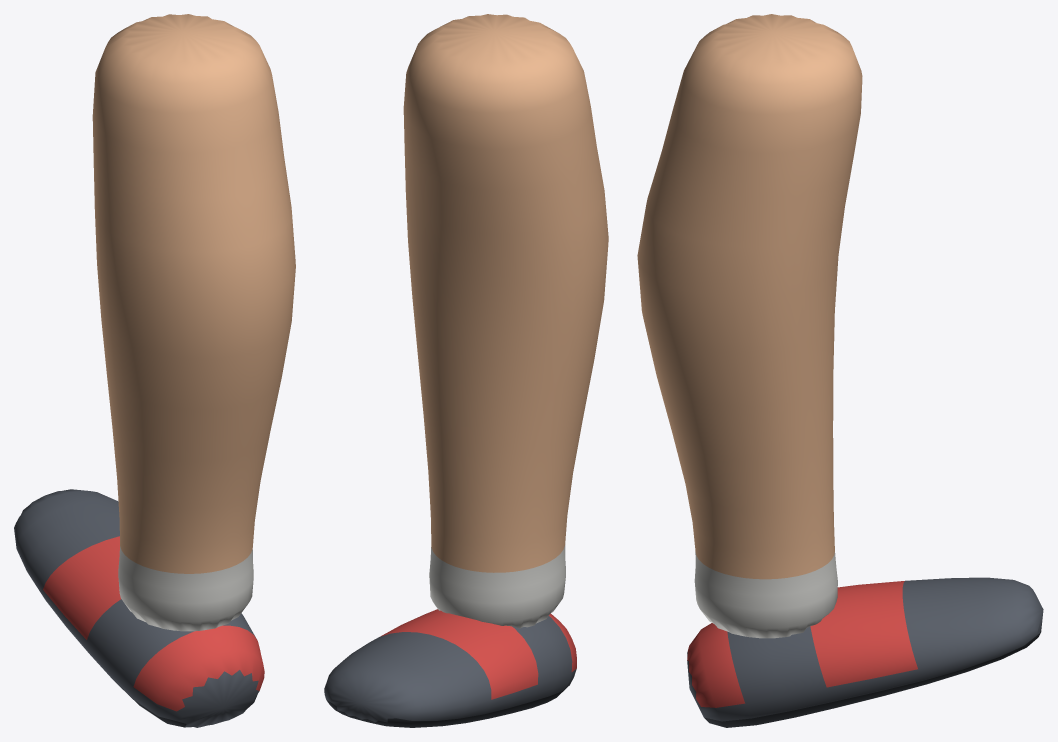
File: rider_calf_shoe.glb
3 views of the same model, side by side, from view 1: azimuth 30°, elevation 25°; view 2: azimuth 150°, elevation 25°; view 3: azimuth 270°, elevation 25° (orthographic).
Visible parts, largest first — view 1: rider_calf_shoe; view 2: rider_calf_shoe; view 3: rider_calf_shoe.
Part boxes in pixels (x1,y1,x2,y2): rider_calf_shoe: [14, 14, 295, 727]; rider_calf_shoe: [324, 14, 608, 727]; rider_calf_shoe: [637, 14, 1043, 727].
Bounding box in the file's own units: 0.1246 × 0.4639 × 0.25.
